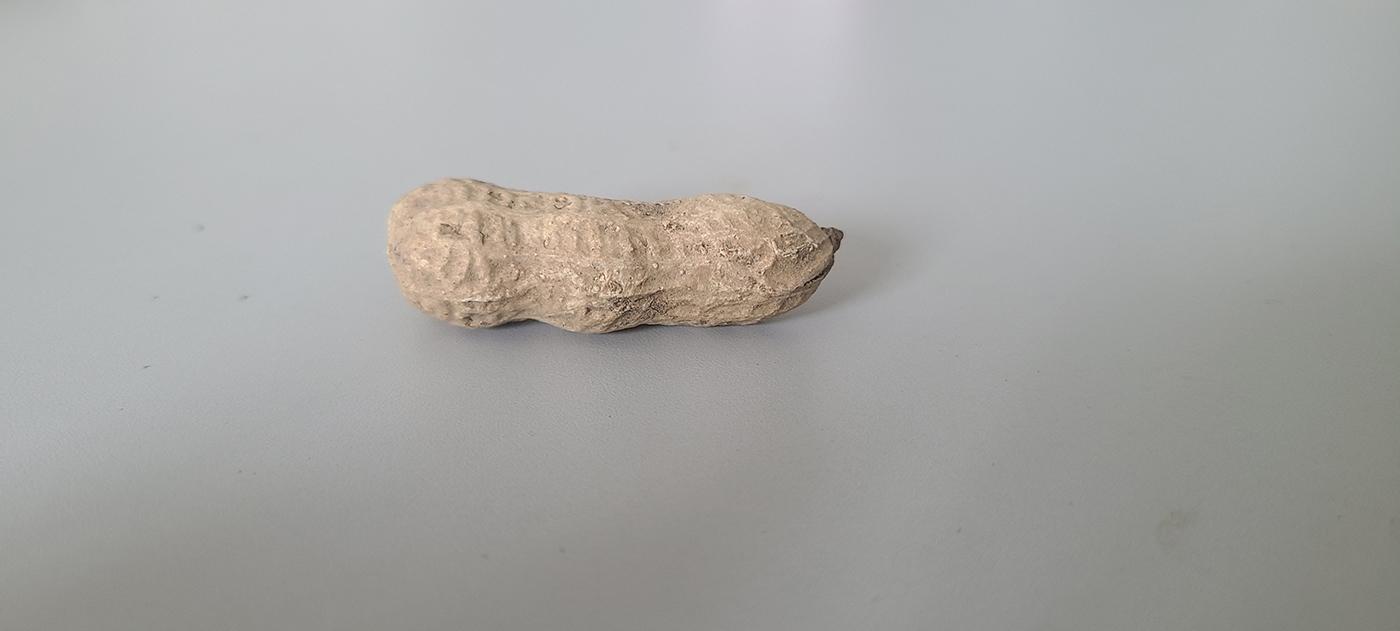h: (387, 173, 840, 334)
